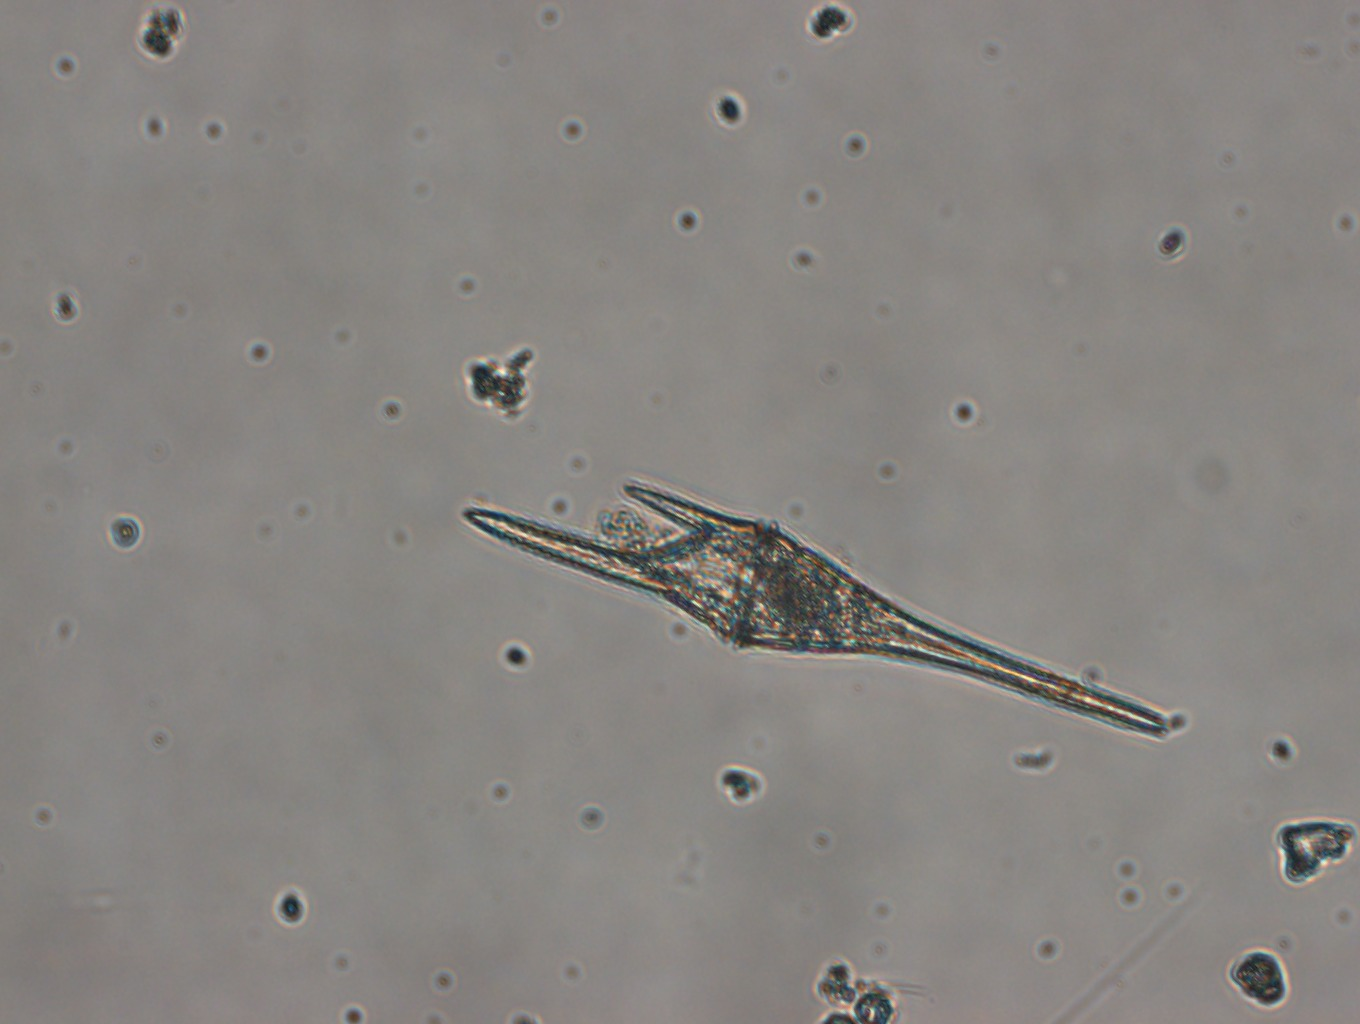ceratium furca: (459, 480, 1172, 737)
